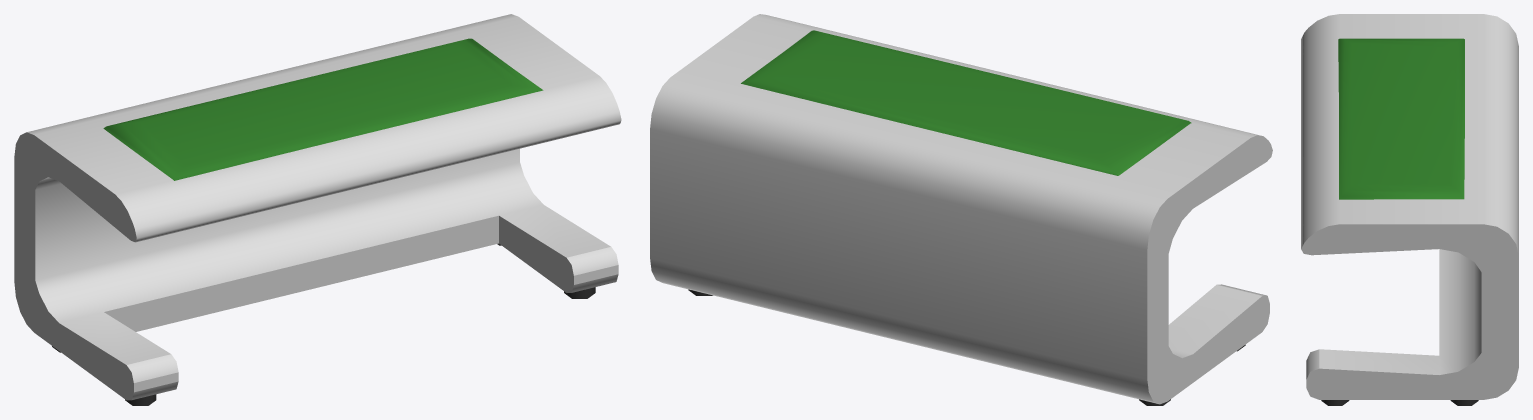
The model's file is Bench.fbx.
3 renders of one model, left to right at view 1: azimuth 30°, elevation 25°; view 2: azimuth 150°, elevation 25°; view 3: azimuth 270°, elevation 25°, orthographic. The views are drawn at different scales.
Visible parts, largest first — view 1: Bench; view 2: Bench; view 3: Bench.
Part boxes in pixels (box(x1,y1,x2,y2)): Bench: box(14, 14, 621, 405); Bench: box(650, 14, 1272, 405); Bench: box(1301, 14, 1518, 405).
Bounding box in the file's own units: 0.99 × 0.4192 × 0.4331.
